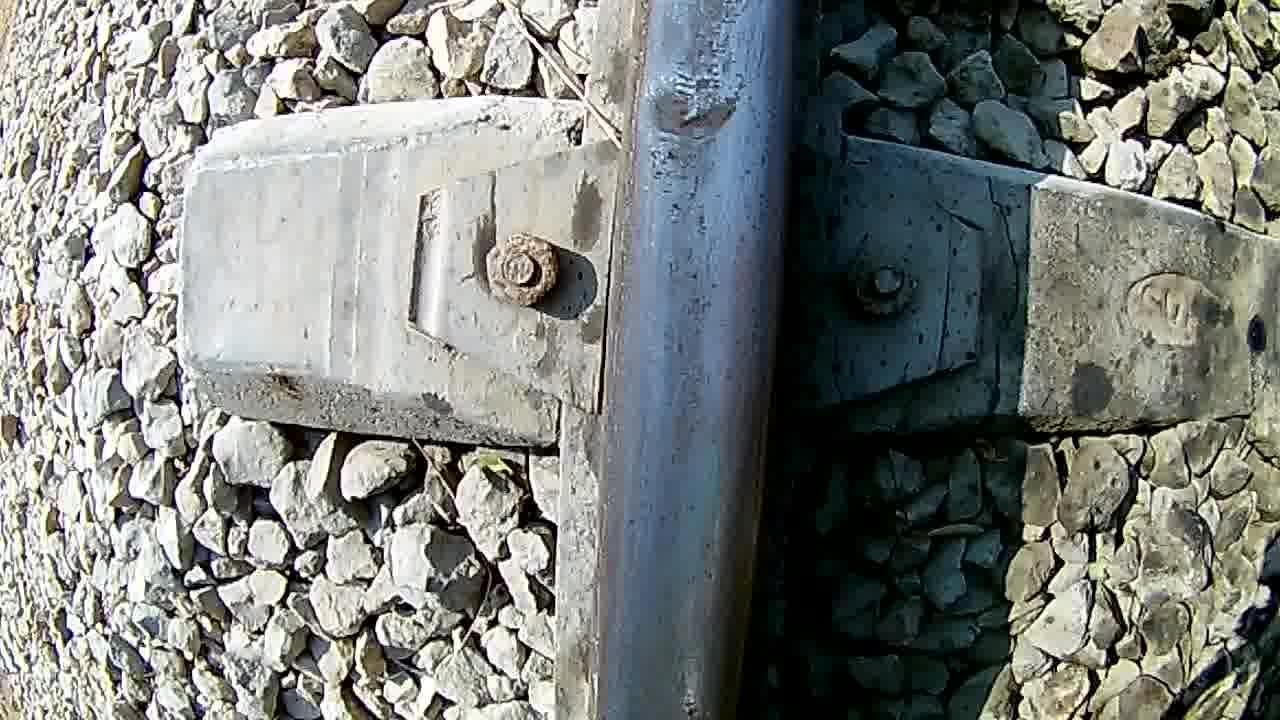crack: (600, 0, 779, 720)
